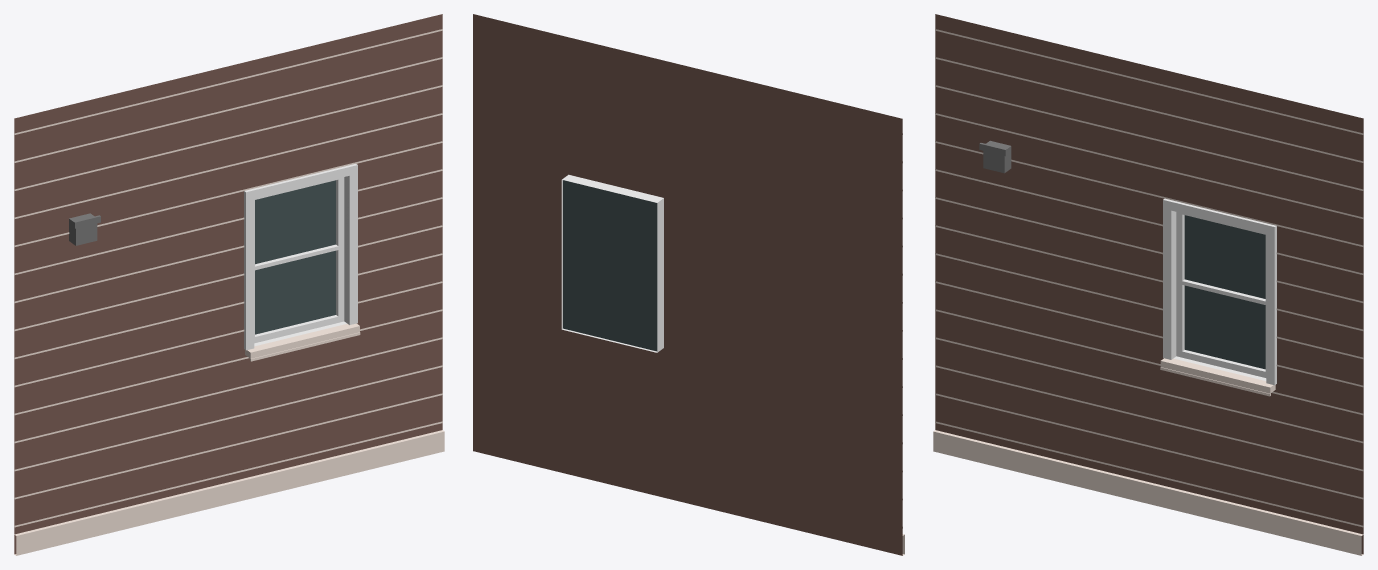
The model's file is top-w4_close.fbx.
3 views of the same model, side by side, from view 1: azimuth 30°, elevation 25°; view 2: azimuth 150°, elevation 25°; view 3: azimuth 330°, elevation 25° (orthographic).
Visible parts, largest first — view 1: a2000s2/800/top-w4_close; view 2: a2000s2/800/top-w4_close; view 3: a2000s2/800/top-w4_close.
Boxes of the visible parts, x1,y1,x2,y2 form: a2000s2/800/top-w4_close: (14, 14, 444, 555); a2000s2/800/top-w4_close: (473, 14, 904, 555); a2000s2/800/top-w4_close: (933, 14, 1363, 555).
Bounding box in the file's own units: 3.6 × 3.5 × 0.22.
